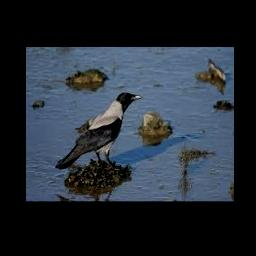Crow: (55, 92, 144, 170)
